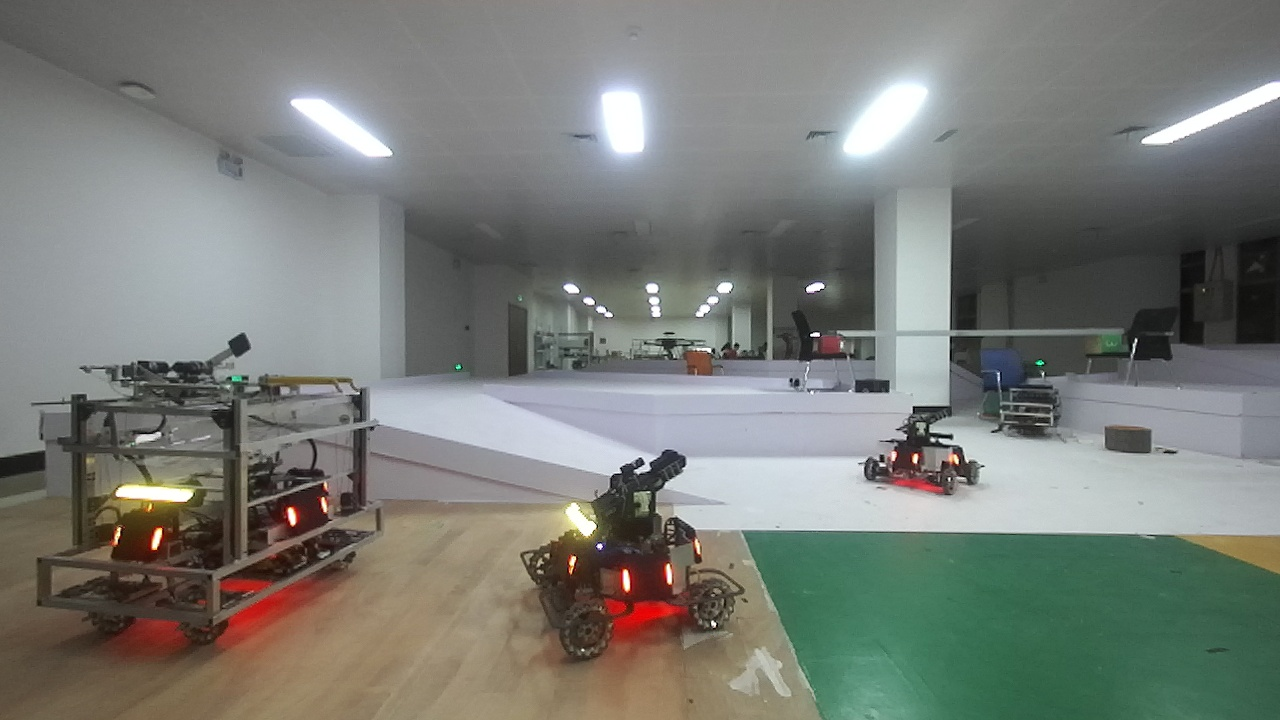car: (24, 355, 362, 642), (502, 438, 758, 668), (855, 399, 1006, 508)
